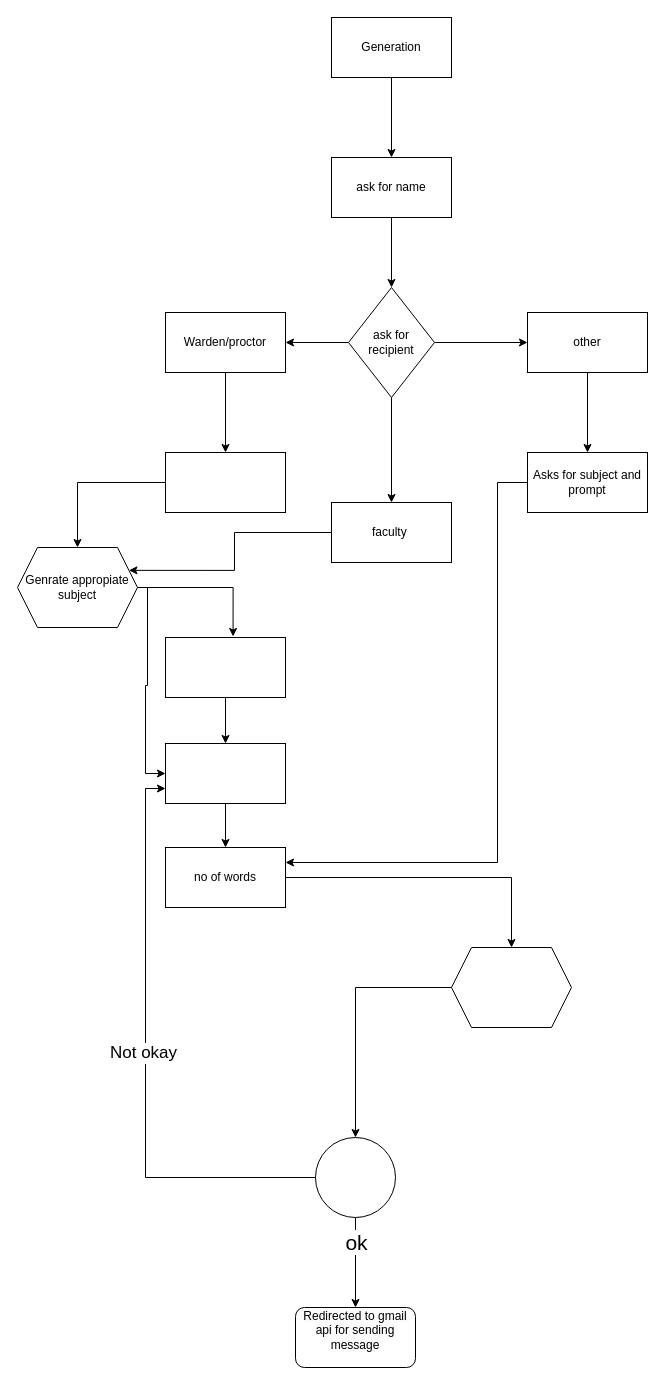
Image size: 665x1398. Some labels were removed from this diagram. The shapes that lost their labels are listed below. From the top down, each one's centre as x and y in pixels, then its label:
the point at 225,482: about leave requests
the point at 225,667: Enter date and time, from and to
the point at 225,773: Enter reason
the point at 511,987: Generate response using gemni api
the point at 355,1177: Review
